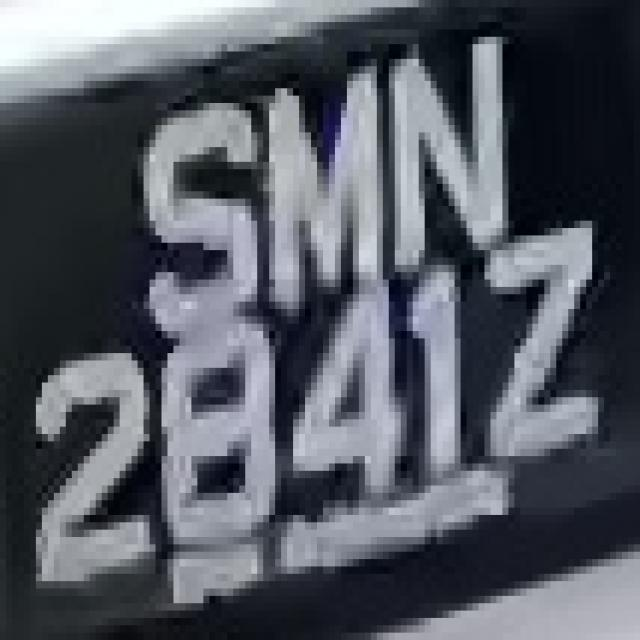1: (412, 250, 484, 522)
2: (18, 346, 161, 588)
4: (281, 272, 407, 530)
8: (150, 309, 287, 559)
M: (239, 51, 389, 316)
N: (365, 36, 514, 280)
S: (120, 81, 257, 331)
Z: (473, 228, 598, 493)
